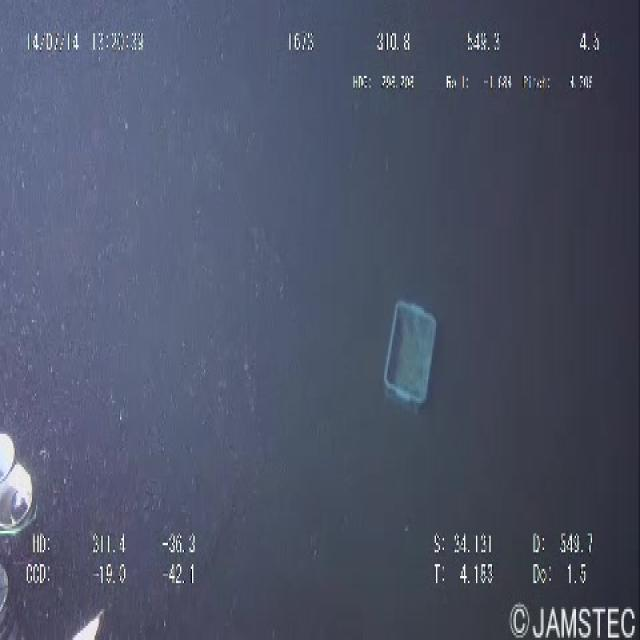plastic: (375, 282, 445, 413)
